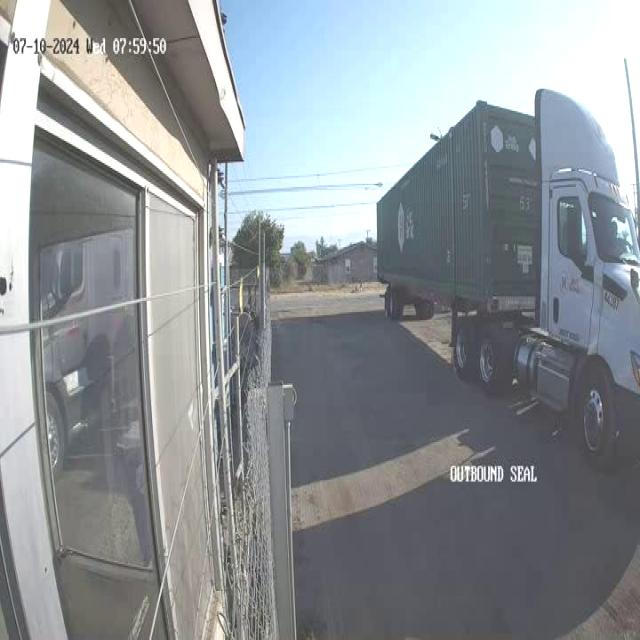TRUCK_CONTAINER: (374, 86, 638, 468)
